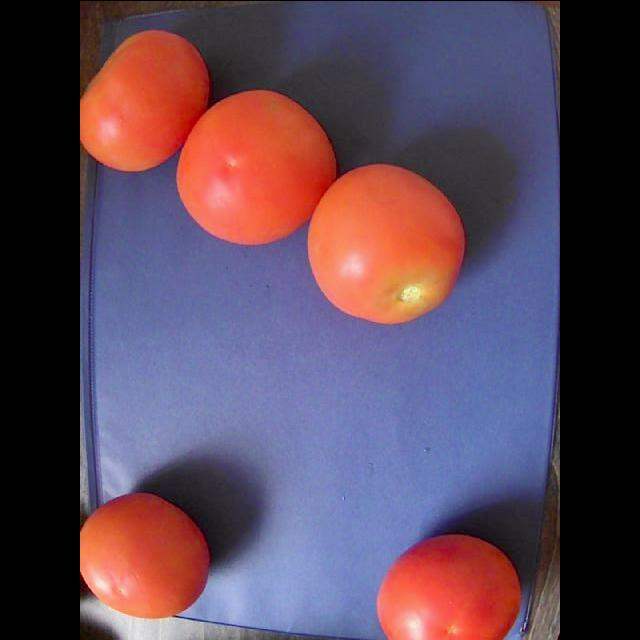tomate: (308, 164, 463, 322), (177, 89, 335, 243), (80, 29, 209, 170), (80, 492, 209, 617), (377, 534, 520, 639)
